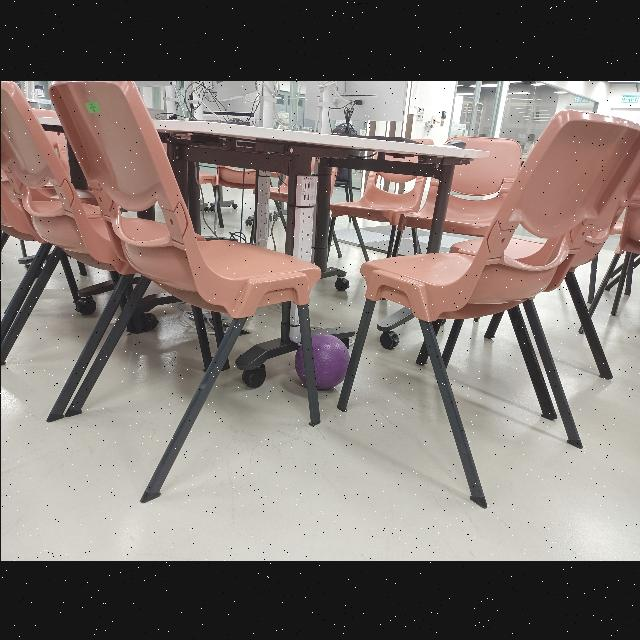P: (292, 333, 348, 389)
